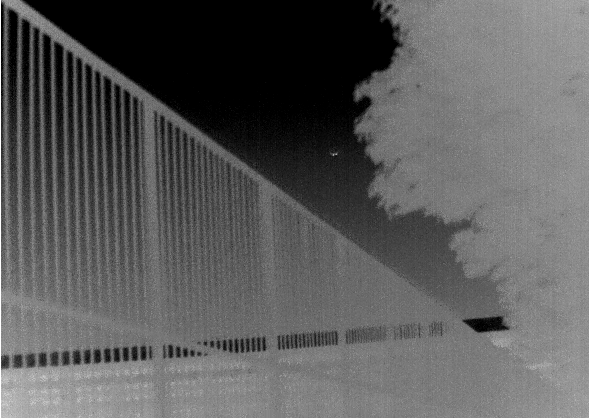dim target: (329, 151, 340, 157)
